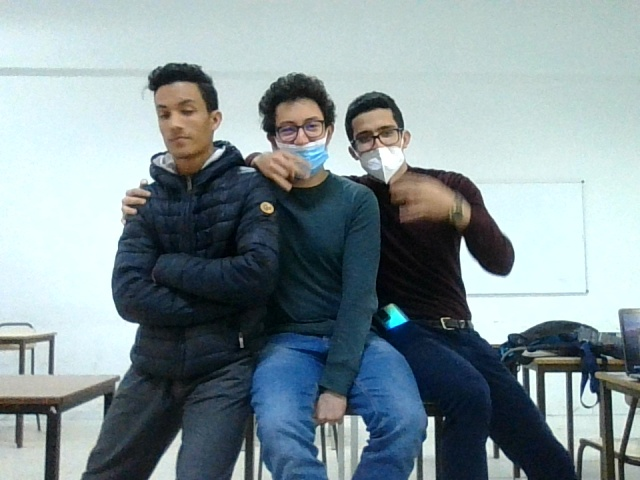mask_weared_incorrect: (351, 123, 415, 182), (274, 113, 331, 164)
without_mask: (158, 95, 206, 153)
